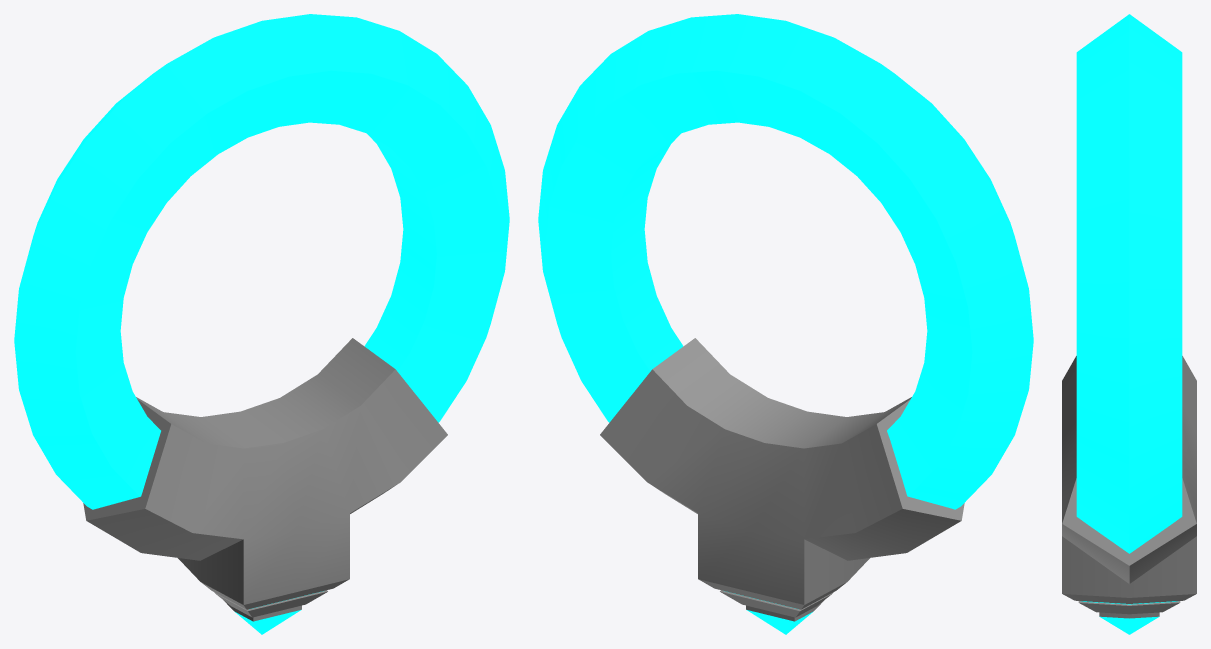
File: Ring Sci Fi.fbx
3 renders of one model, left to right at view 1: azimuth 30°, elevation 25°; view 2: azimuth 150°, elevation 25°; view 3: azimuth 270°, elevation 25°, orthographic. The views are drawn at different scales.
Visible parts, largest first — view 1: Torus.001; view 2: Torus.001; view 3: Torus.001.
Part boxes in pixels (bbox=[...]): Torus.001: bbox=[14, 14, 509, 634]; Torus.001: bbox=[538, 14, 1033, 634]; Torus.001: bbox=[1062, 14, 1196, 634].
Size of the model in its own units: 250 by 296 by 60.7.
